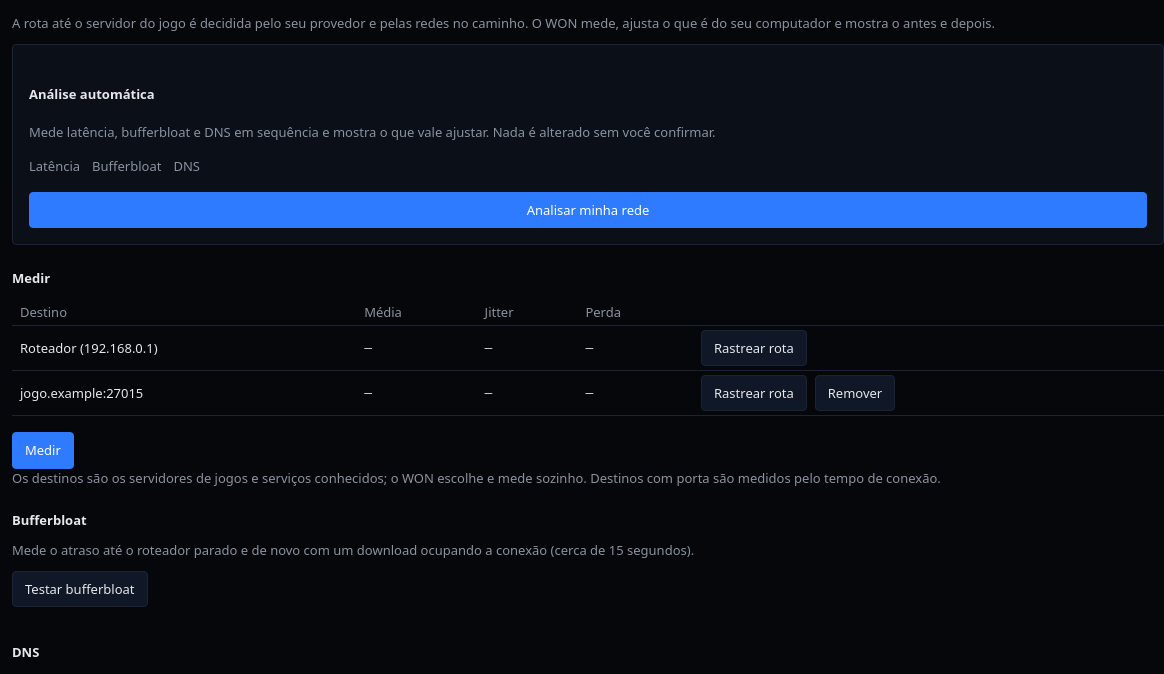
Scenario: Rede › bufferbloat_shows_grade
Click the button "Testar bufferbloat".
click(80, 589)  # box x1=12 y1=571 x2=148 y2=607
(page scrolled)
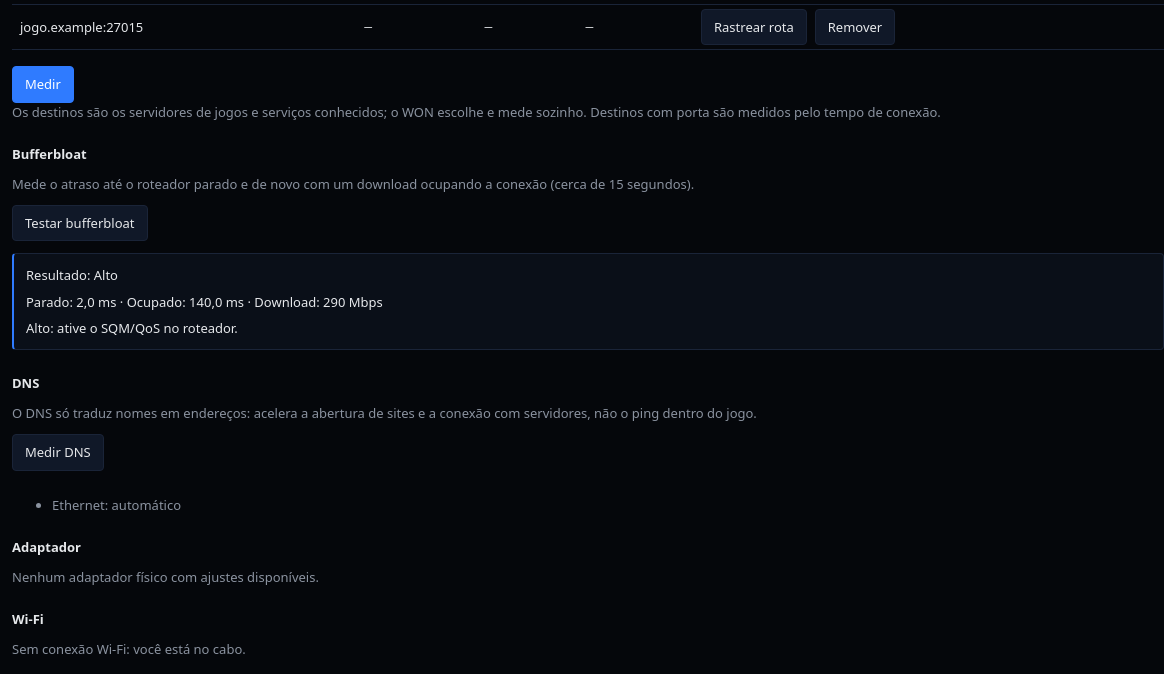
Expected: the text "Resultado: Alto" is shown, x1=26 y1=266 x2=118 y2=284
Expected: the text "Parado: 2,0 ms · Ocupado: 140,0 ms · Download: 290 Mbps" is shown, x1=26 y1=293 x2=383 y2=311
Expected: the text "Alto: ative o SQM/QoS no roteador." is shown, x1=26 y1=319 x2=238 y2=337
